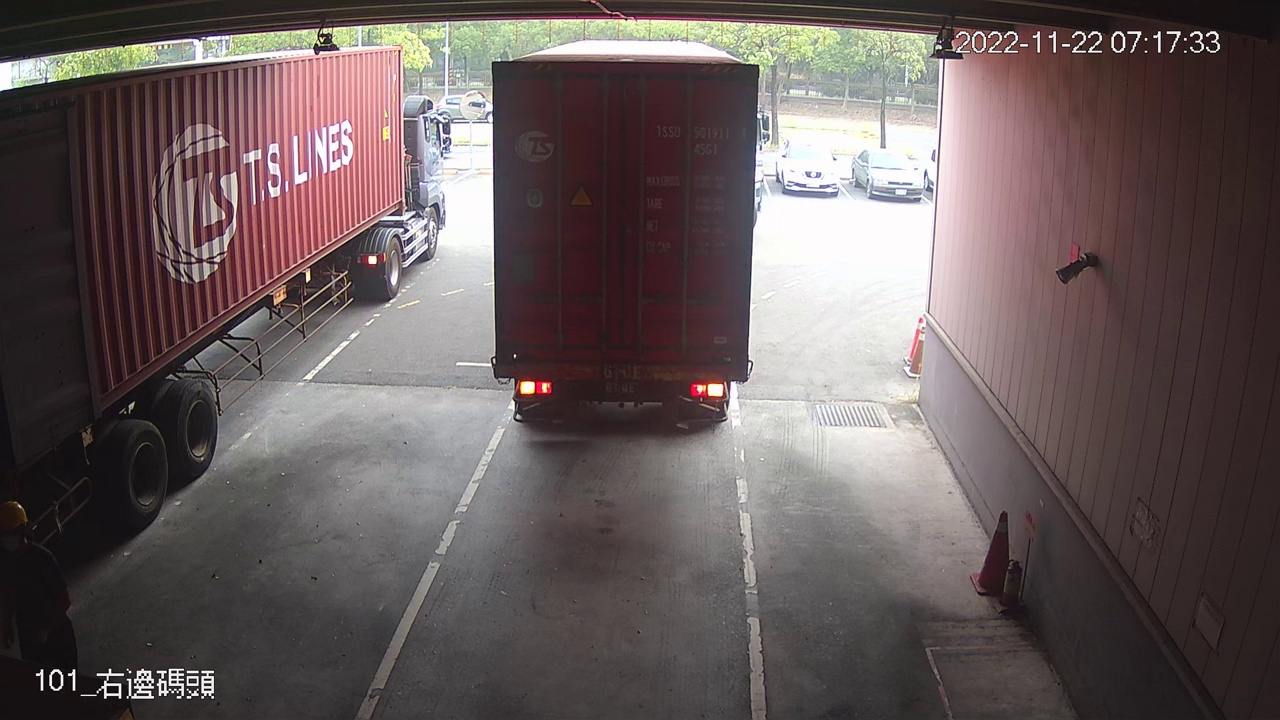container: (650, 119, 751, 162)
